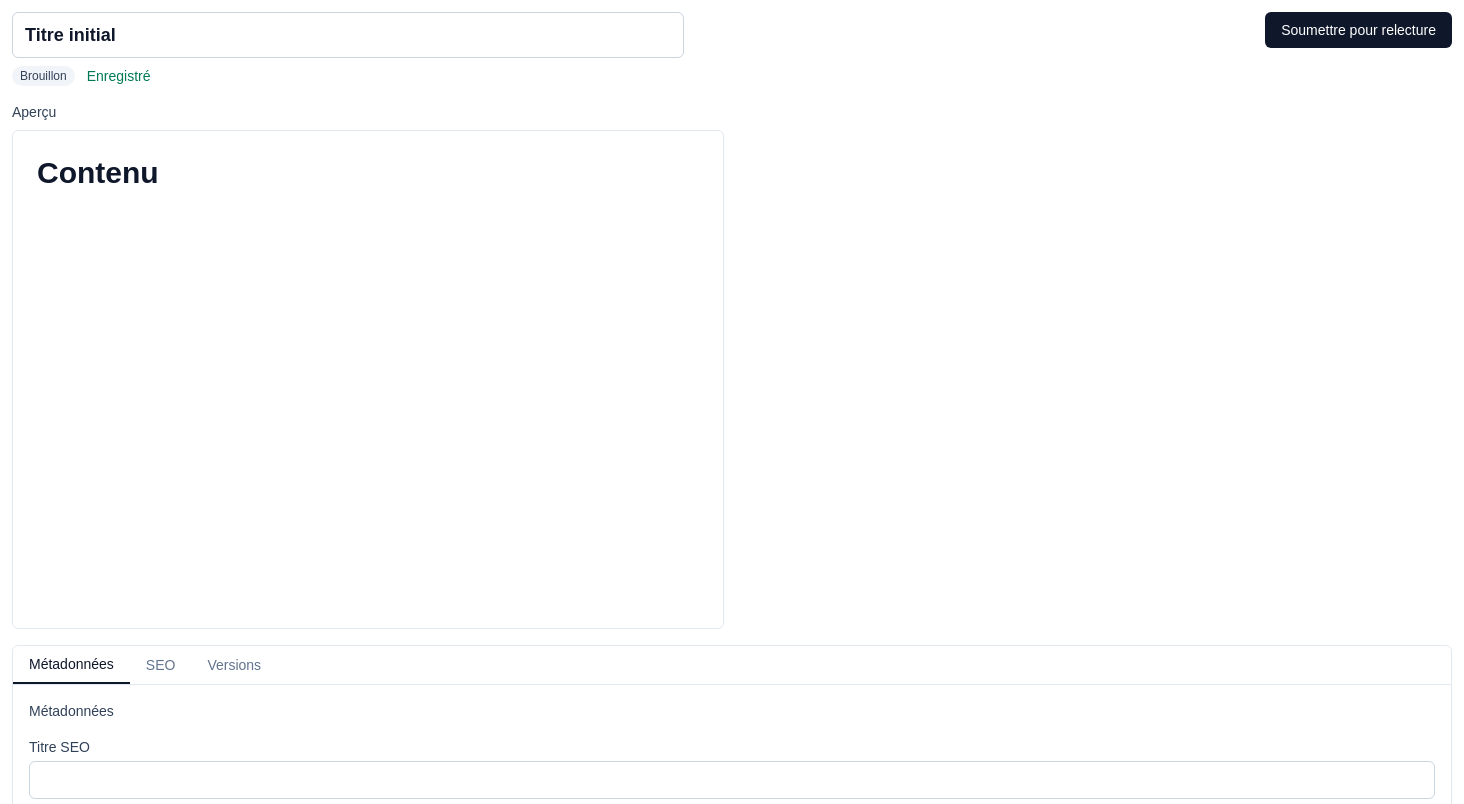
it: ArticleEditor — sauvegarde temporisée › en cas d'échec, affiche « Échec de l'enregistrement » SANS perdre le texte saisi, et Réessayer relance la sauvegarde
The width and height of the screenshot is (1464, 804).
Replace the text in the field named "Titre de l’article" with "Titre initial modifié": (348, 35) [12,12,684,58]
Wait 1500 ms
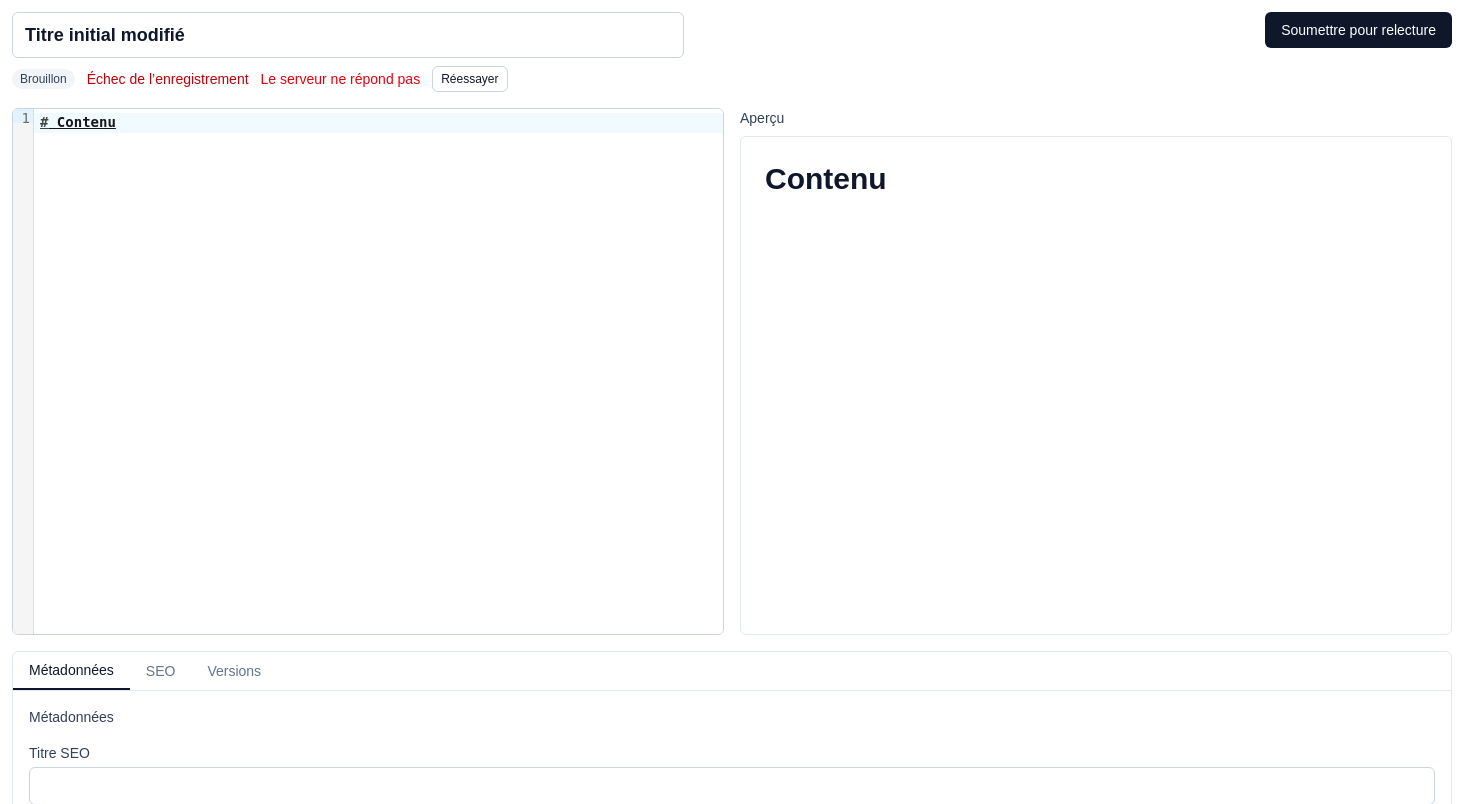
Expected: the text "Échec de l’enregistrement" is shown, [87,69,249,89]
Expected: the text "Le serveur ne répond pas" is shown, [261,69,420,89]
Click the button "Réessayer": (470, 79) [432,66,508,92]
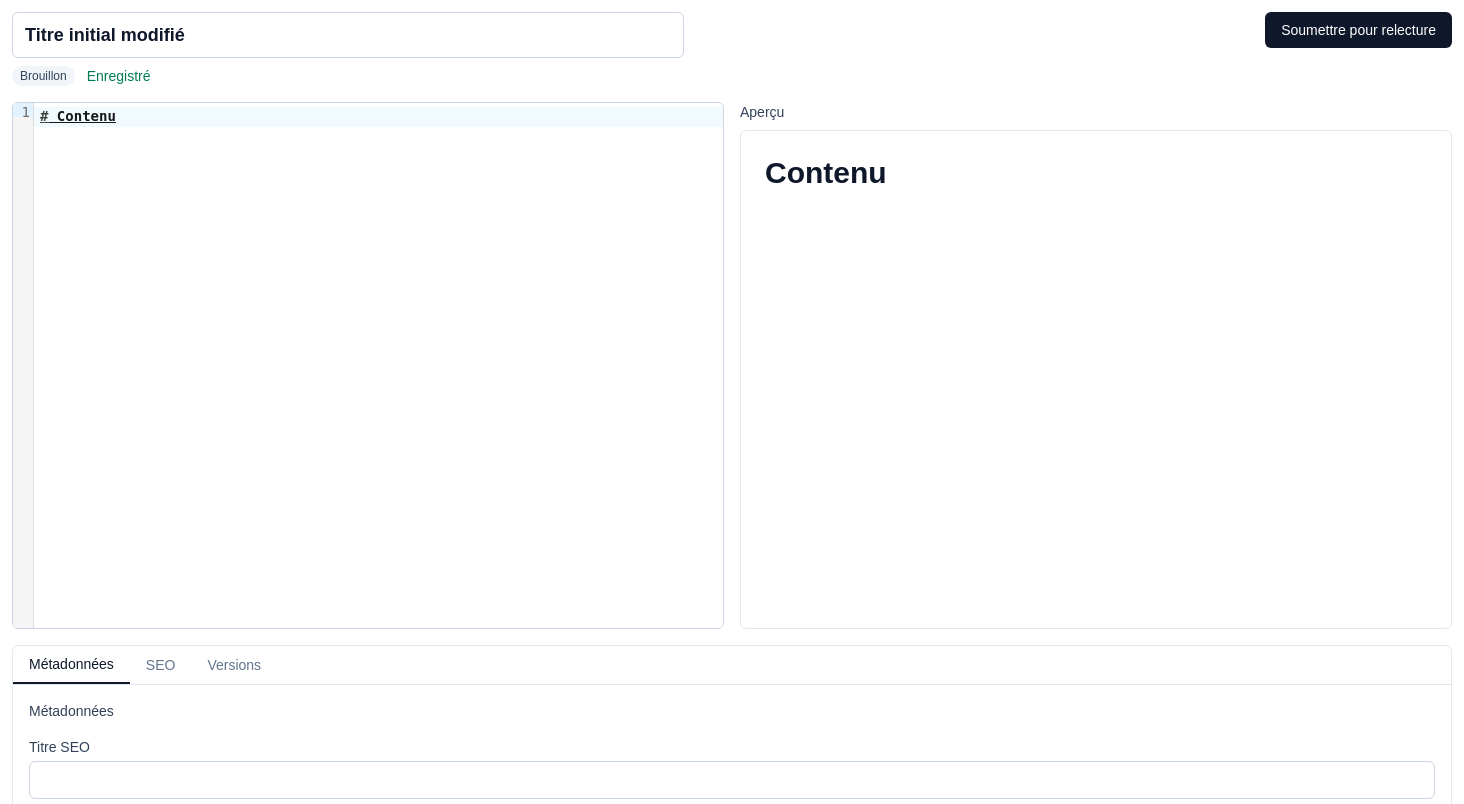
Expected: the text "Enregistré" is shown, [87,66,150,86]
